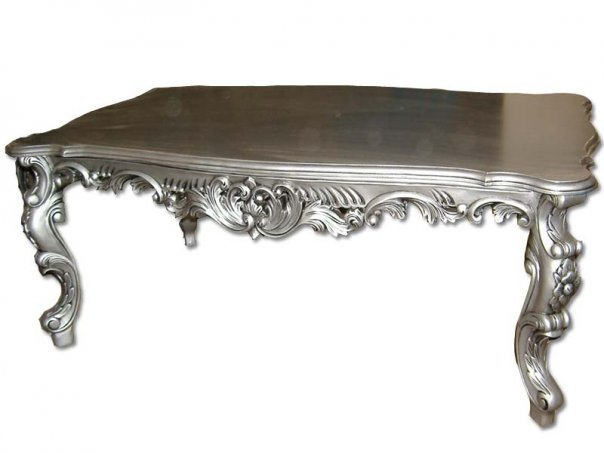Carving Table: (24, 83, 598, 416)
